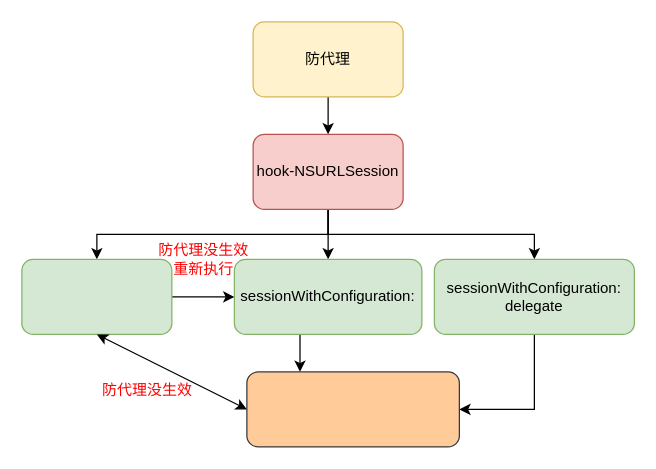
Some shapes in this 656 by 469 pixel diagram are drawn without their labels. The centre of each missing label's shape, as x and y in pixels:
NSURLSessionConfiguration. connectionProxyDictionary: the point at 352,409
sharedSession: the point at 96,296
